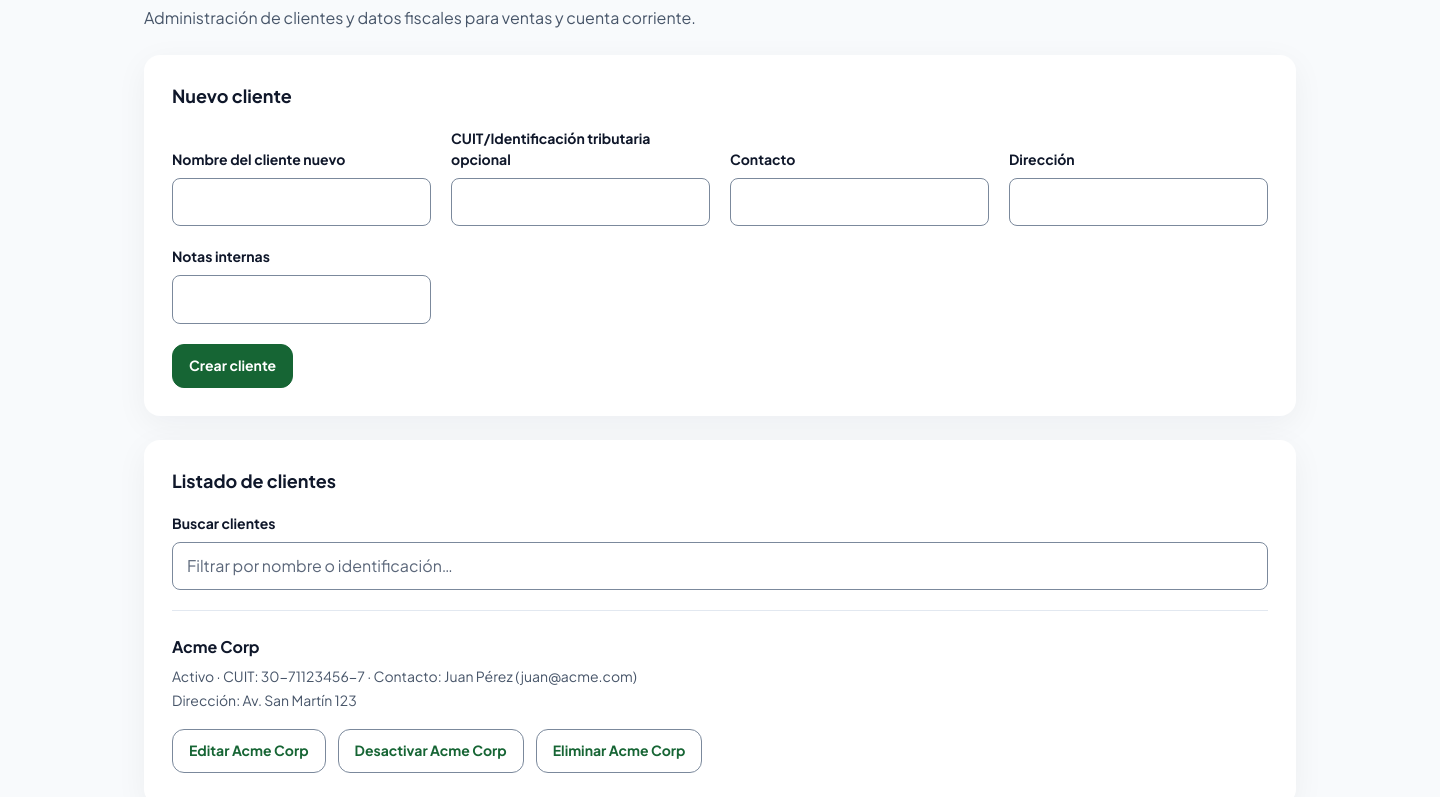
Test: displays clear D01 message when deletion is blocked by history
The image size is (1440, 797).
(page scrolled)
Click the button "Eliminar Acme Corp" at (619, 751), box [536,729,702,773]
(page scrolled)
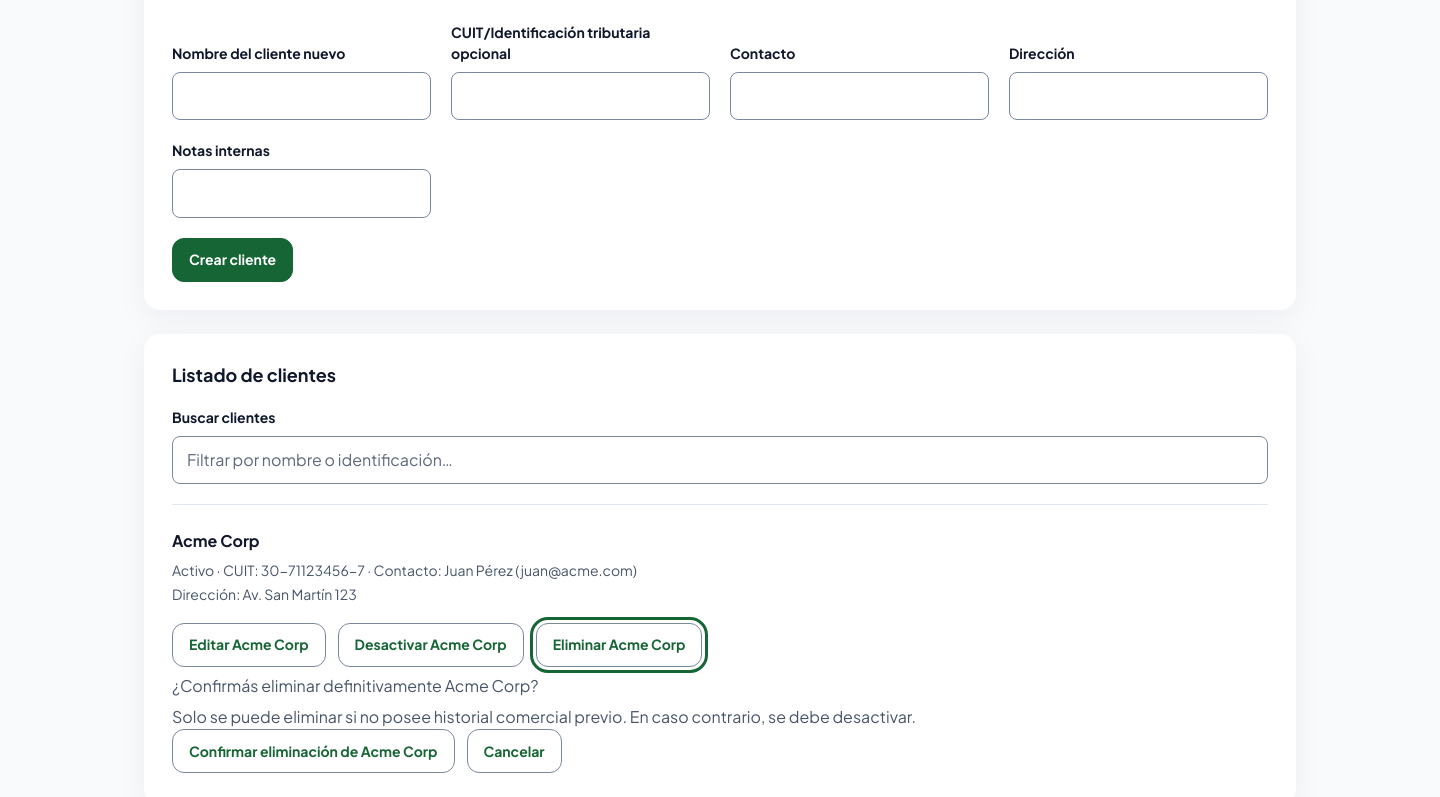
Click the button "Confirmar eliminación de Acme Corp" at (313, 751), box [172,729,454,773]
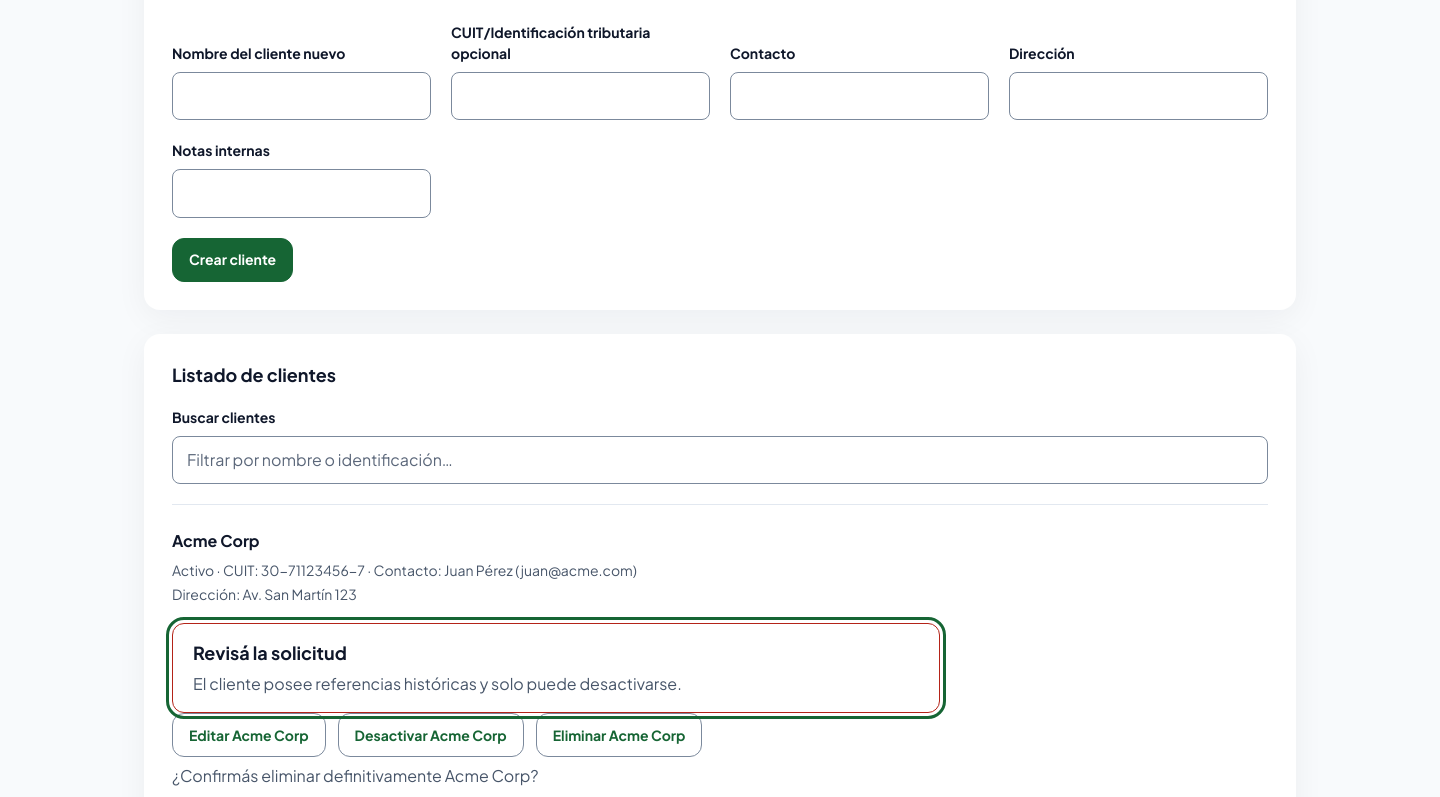
expect the text "referencias históricas y solo puede desactivarse" is shown: met, box [193,673,682,694]
